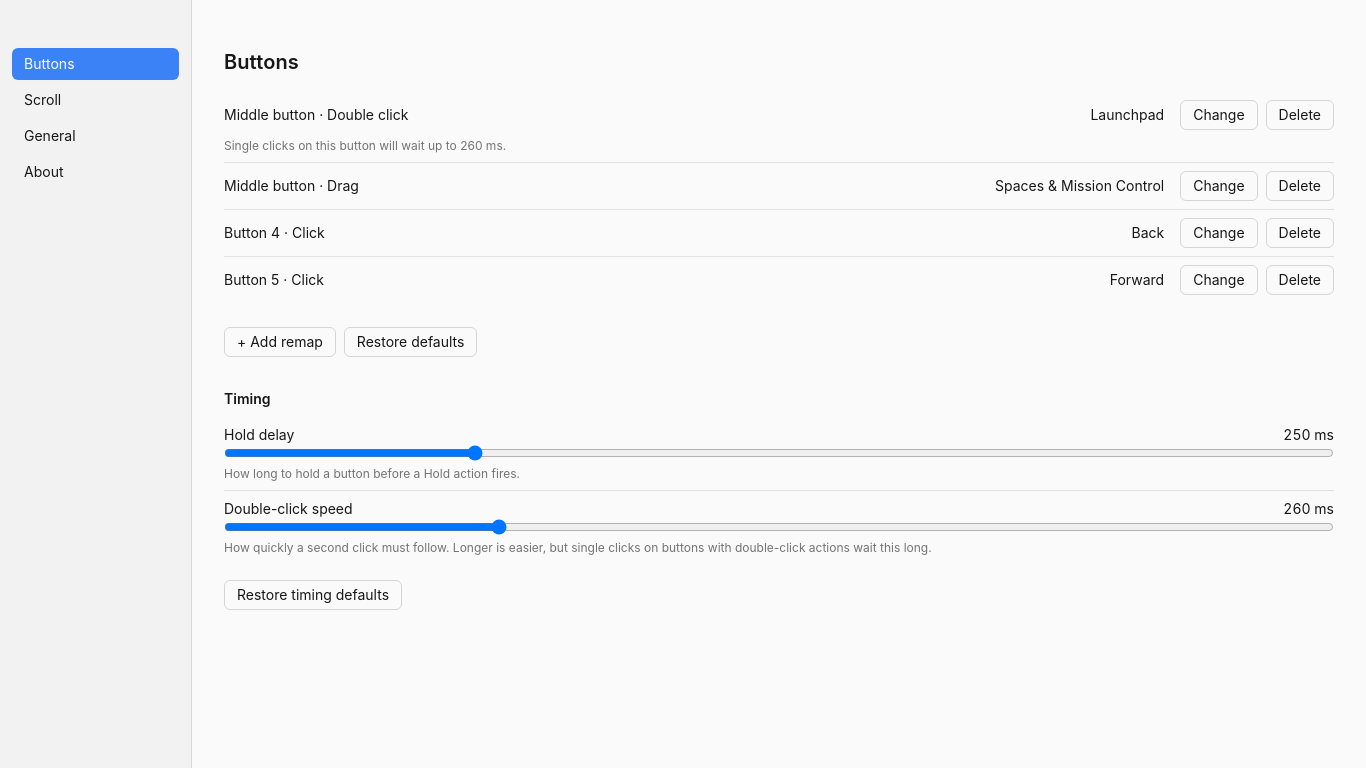
Buttons page › opening the add panel closes a row being changed and stops its recording
Step 1. Click the button "Change" next to "Launchpad" → (1219, 115), box [1180, 100, 1258, 130]
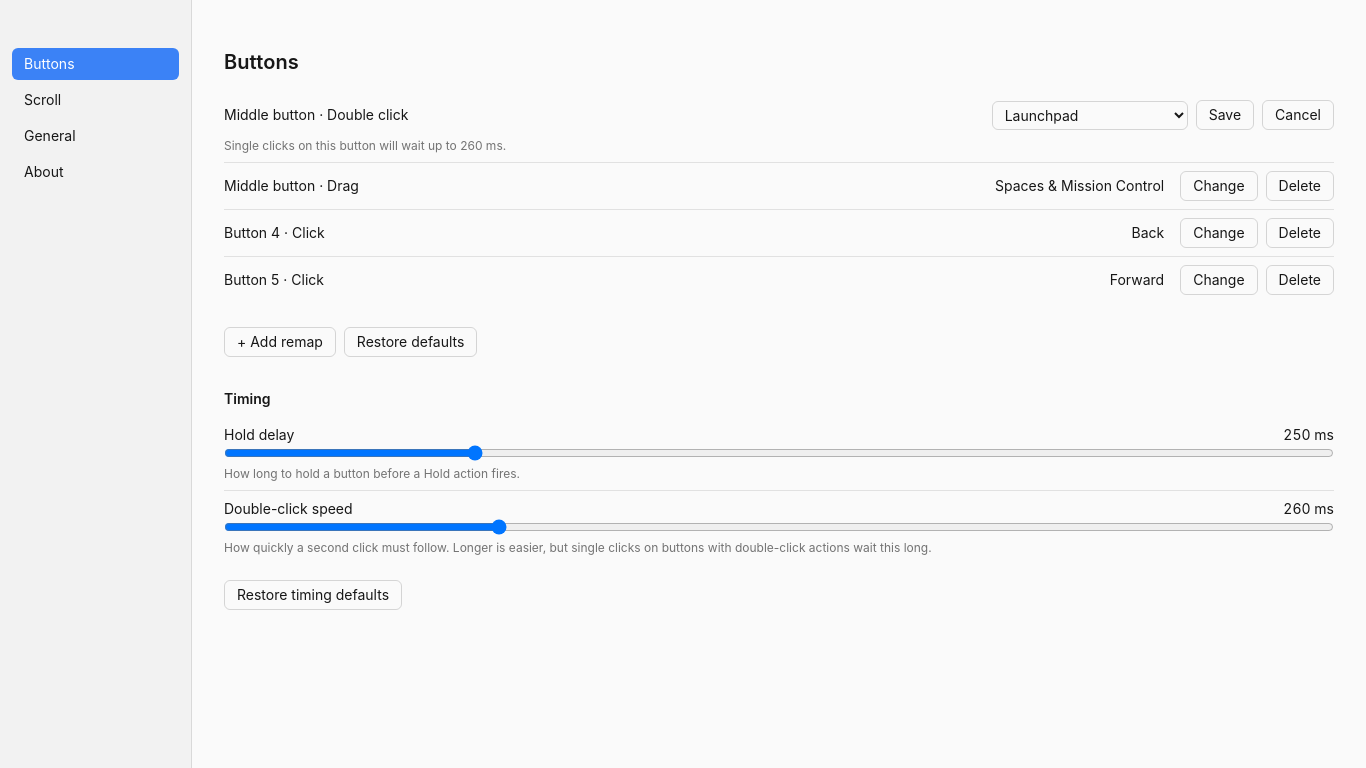
Step 2. Select "Keyboard shortcut…" in the dropdown named "Action" → (1090, 115), box [992, 100, 1188, 130]
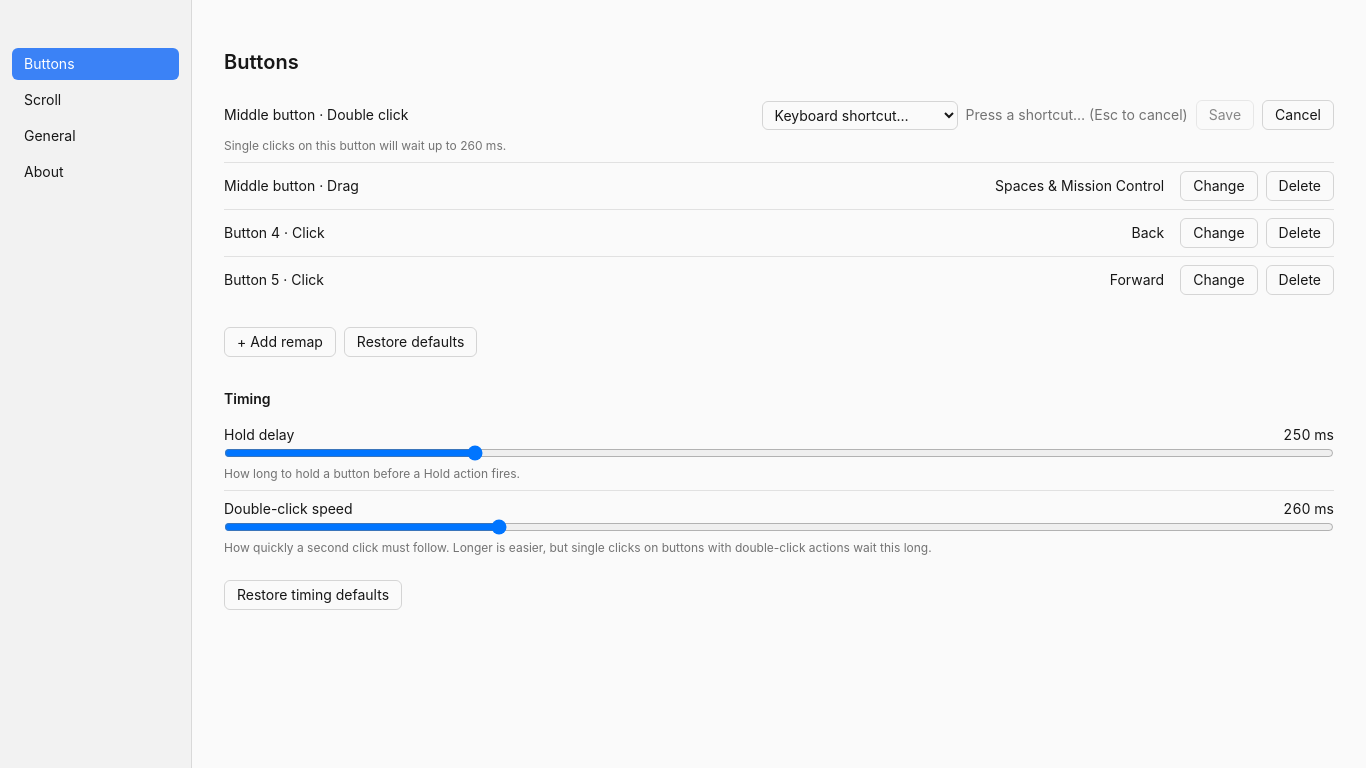
Step 3. Click the button "+ Add remap" → (280, 342), box [224, 327, 336, 357]
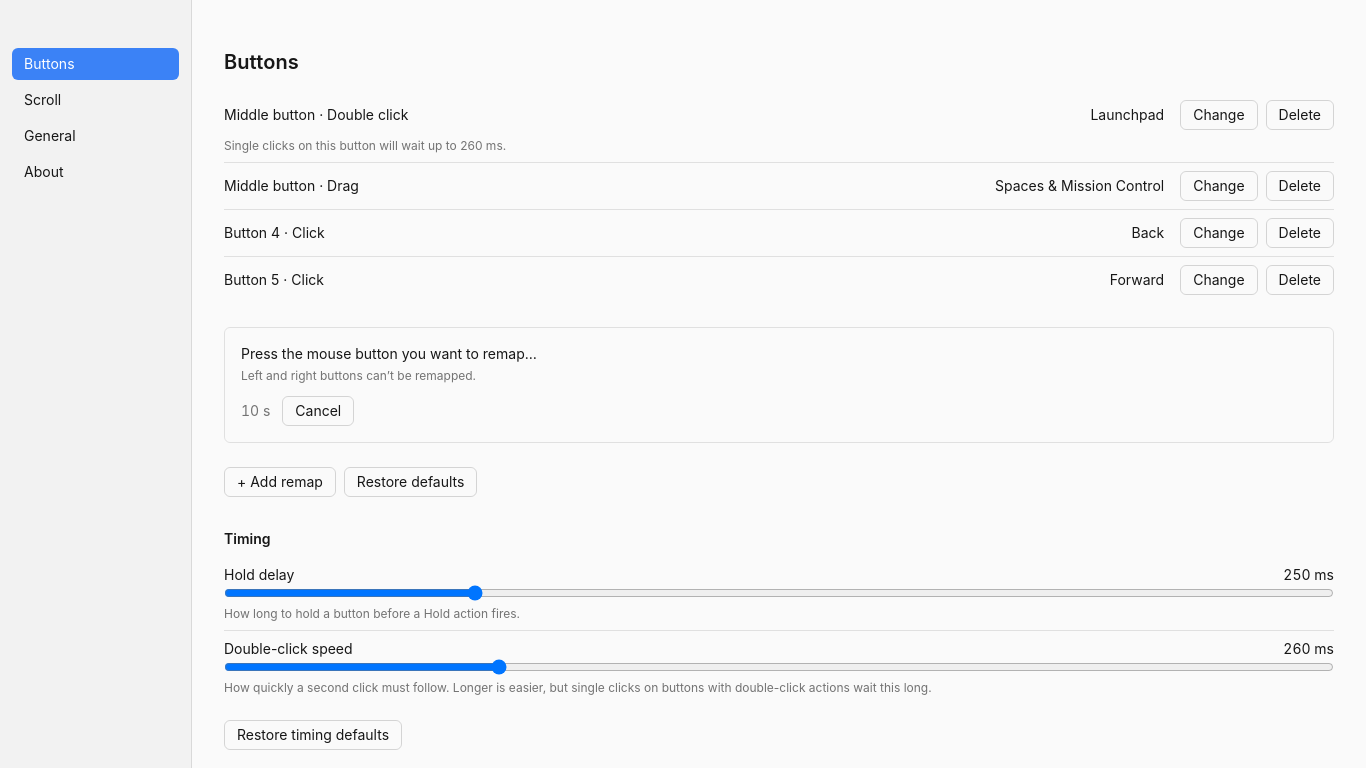
Now the text "Press the mouse button you want to remap…" is shown, box [241, 345, 537, 362]
